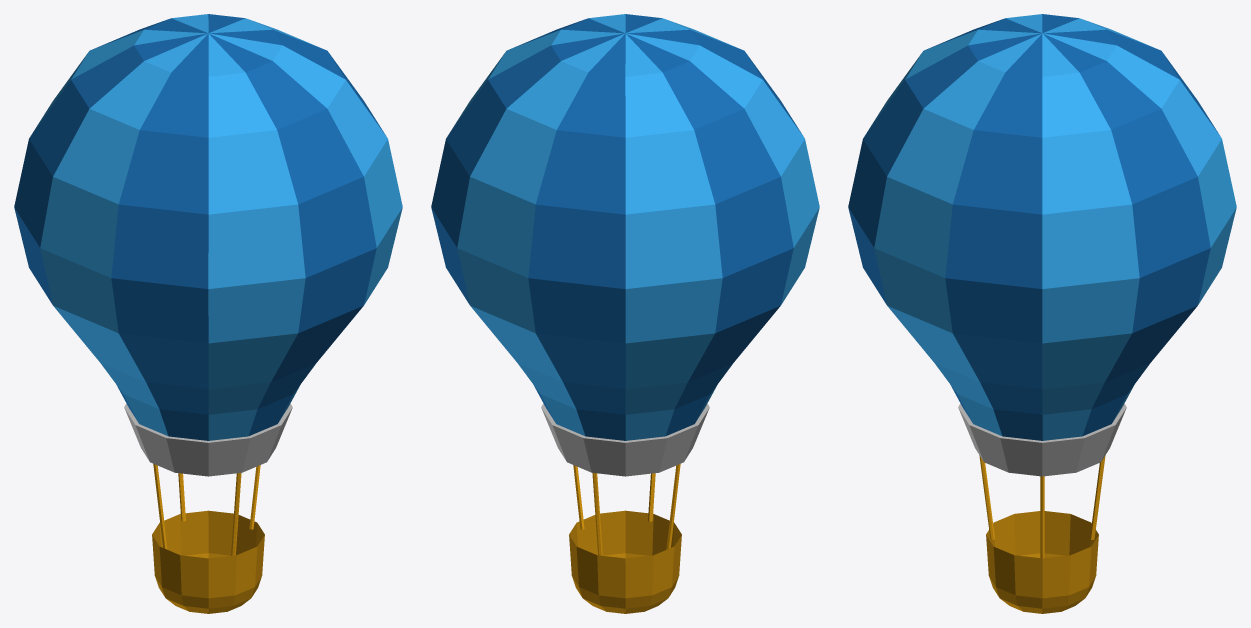
Rendered from balao.fbx.
3 renders of one model, left to right at view 1: azimuth 30°, elevation 25°; view 2: azimuth 150°, elevation 25°; view 3: azimuth 270°, elevation 25°, orthographic.
Parts seen in each view (by area): view 1: Balão; view 2: Balão; view 3: Balão.
Part boxes in pixels (x1,y1,x2,y2): Balão: (14,14,402,613); Balão: (431,14,819,613); Balão: (848,14,1236,613).
Bounding box in the file's own units: 197 × 320 × 197.
